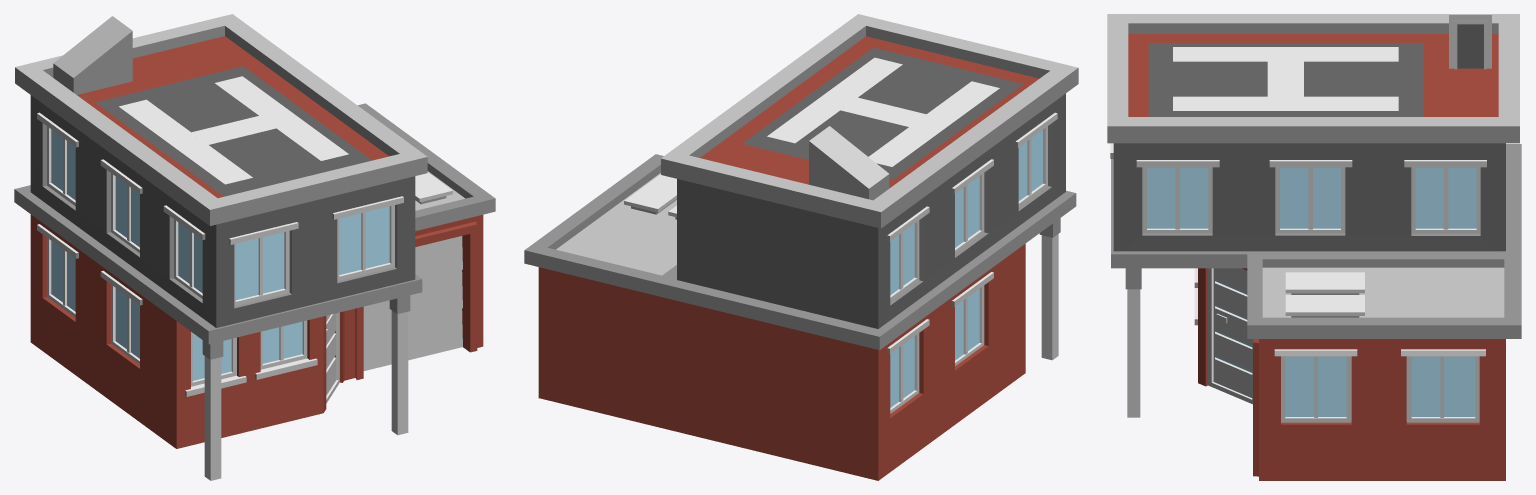
The model's file is house_purpose_002.fbx.
3 views of the same model, side by side, from view 1: azimuth 30°, elevation 25°; view 2: azimuth 150°, elevation 25°; view 3: azimuth 270°, elevation 25° (orthographic). The views are drawn at different scales.
Parts seen in each view (by area): view 1: house_purpose_002; view 2: house_purpose_002; view 3: house_purpose_002.
Part boxes in pixels (x1,y1,x2,y2): house_purpose_002: [14, 14, 495, 480]; house_purpose_002: [524, 14, 1078, 480]; house_purpose_002: [1107, 14, 1521, 480].
Size of the model in its own units: 795 by 692 by 767.
